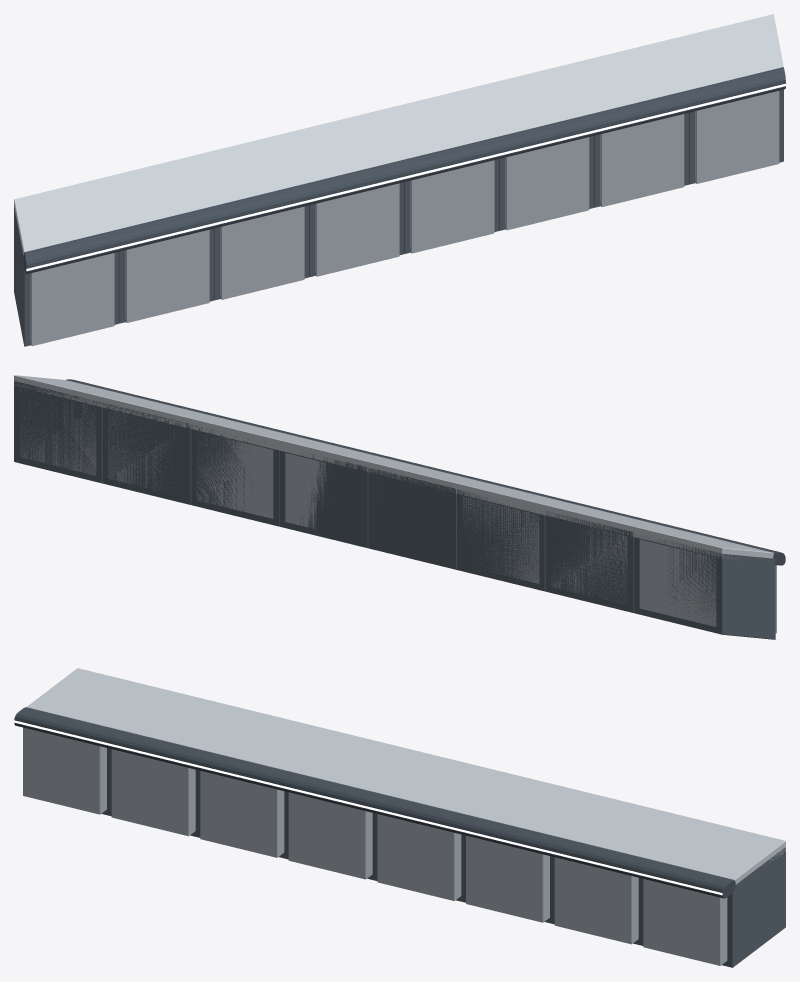
Rendered from Terrain_TopRun8.gltf.
The picture shows the model from 3 angles, top to bottom: view 1: azimuth 30°, elevation 25°; view 2: azimuth 150°, elevation 25°; view 3: azimuth 330°, elevation 25°; orthographic projection. The views are drawn at different scales.
Parts seen in each view (by area): view 1: Terrain_TopRun8_baked; view 2: Terrain_TopRun8_baked; view 3: Terrain_TopRun8_baked.
Part boxes in pixels (left/top/right/bottom): Terrain_TopRun8_baked: left=14, top=14, right=785, bottom=346; Terrain_TopRun8_baked: left=14, top=375, right=785, bottom=639; Terrain_TopRun8_baked: left=14, top=668, right=785, bottom=967.
Size of the model in its own units: 8.29 by 1.18 by 0.74.
